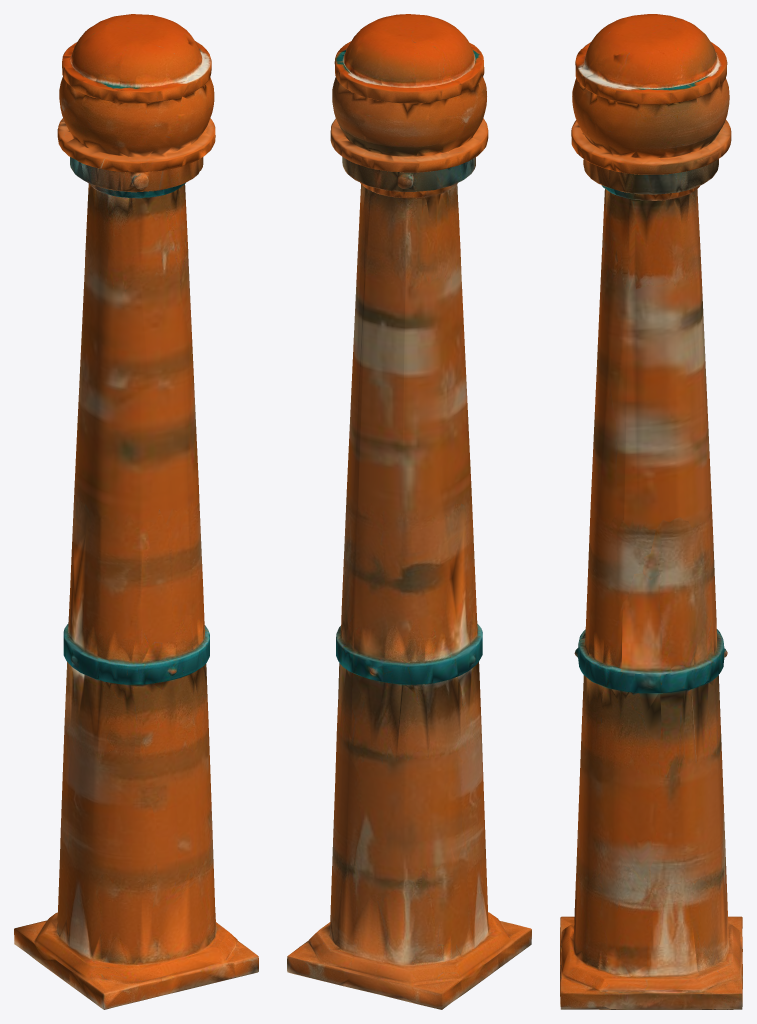
Rendered from strange_orbit_port_craterPylon.da045484.glb.
3 views of the same model, side by side, from view 1: azimuth 30°, elevation 25°; view 2: azimuth 150°, elevation 25°; view 3: azimuth 270°, elevation 25° (orthographic).
Bounding box in the file's own units: 0.351 × 2 × 0.3513.
Materials: 1 (1 with a texture image).
